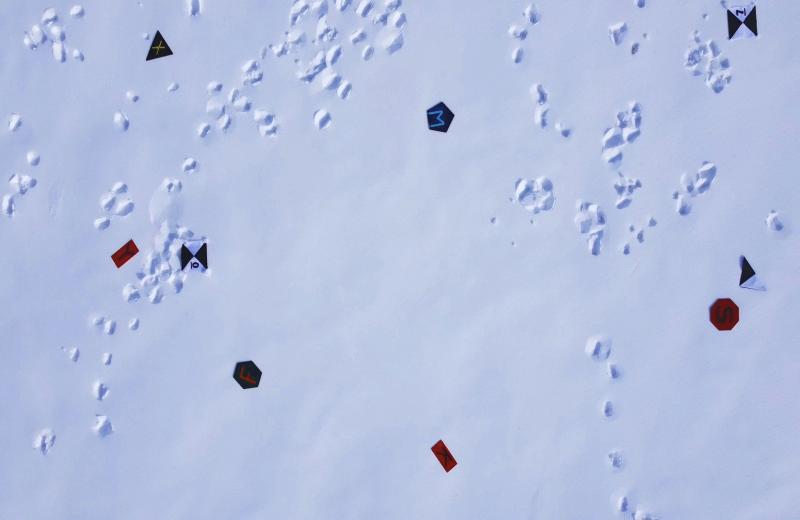Hexagon: (233, 359, 262, 391)
Octagon: (709, 294, 742, 333)
Pentagon: (426, 101, 458, 135)
Rectangle: (430, 438, 459, 474), (111, 238, 140, 273)
Triangle: (145, 29, 174, 66)
